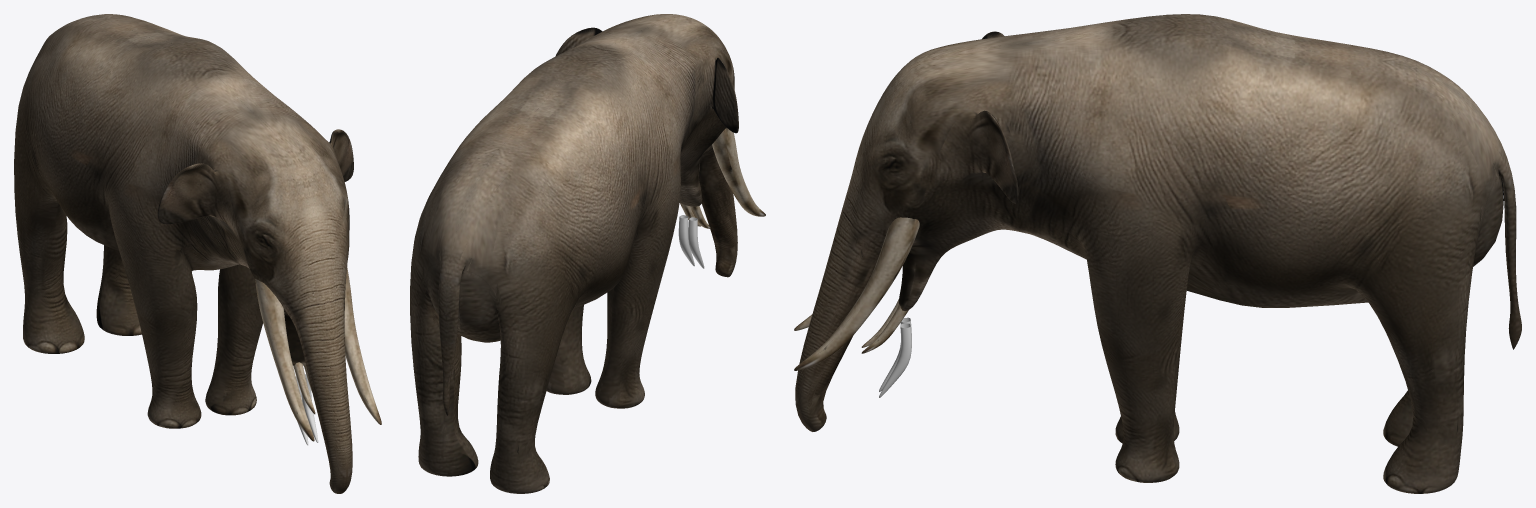
File: 05 Stegolophodon (ช้างสเตโกโลโฟดอน).fbx
The picture shows the model from 3 angles, left to right: view 1: azimuth 30°, elevation 25°; view 2: azimuth 150°, elevation 25°; view 3: azimuth 270°, elevation 25°; orthographic projection. The views are drawn at different scales.
Visible parts, largest first — view 1: Cube, Cube.001, Cube.003, Cube.002; view 2: Cube, Cube.001, Cube.002; view 3: Cube, Cube.001, Cube.002.
Part boxes in pixels (left/top/right/bottom): Cube: left=14, top=14, right=353, bottom=493; Cube.001: left=255, top=267, right=381, bottom=441; Cube.003: left=293, top=362, right=315, bottom=414; Cube.002: left=296, top=374, right=318, bottom=445; Cube: left=410, top=14, right=738, bottom=493; Cube.001: left=712, top=128, right=765, bottom=216; Cube.002: left=678, top=215, right=704, bottom=268; Cube: left=795, top=14, right=1521, bottom=493; Cube.001: left=794, top=217, right=919, bottom=370; Cube.002: left=879, top=317, right=911, bottom=397.
Bounding box in the file's own units: 492 × 847 × 1293.
Materials: 1 (1 with a texture image).
